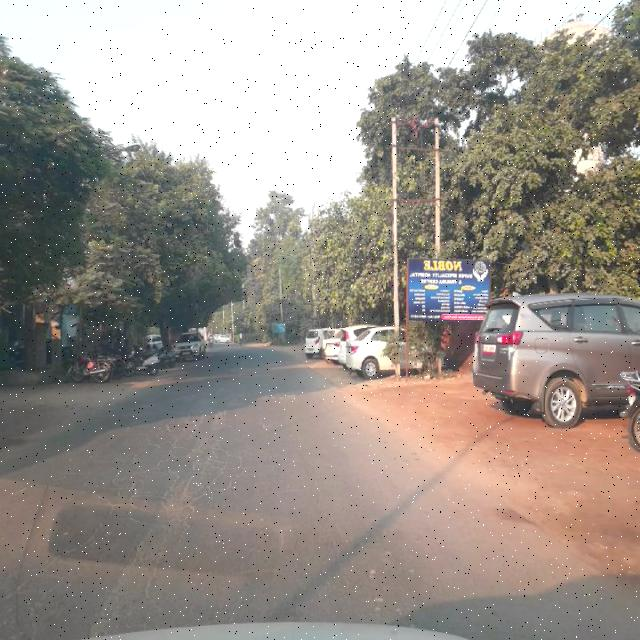D20: (52, 388, 263, 604)
